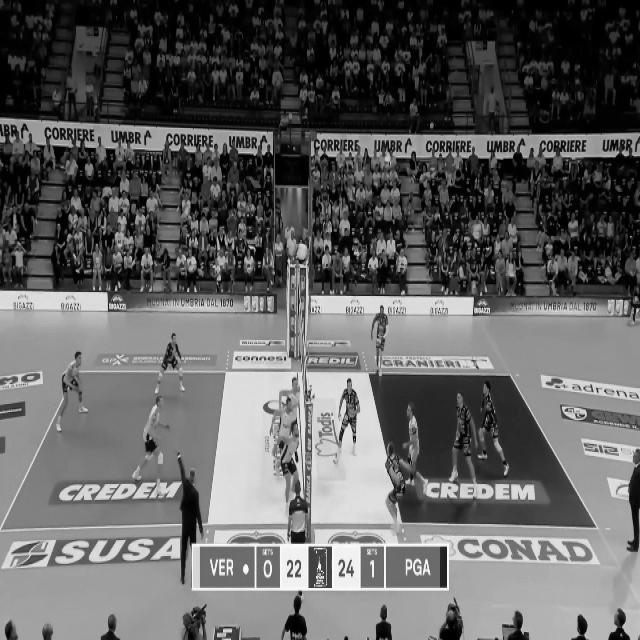volleyball court: (0, 368, 602, 528)
